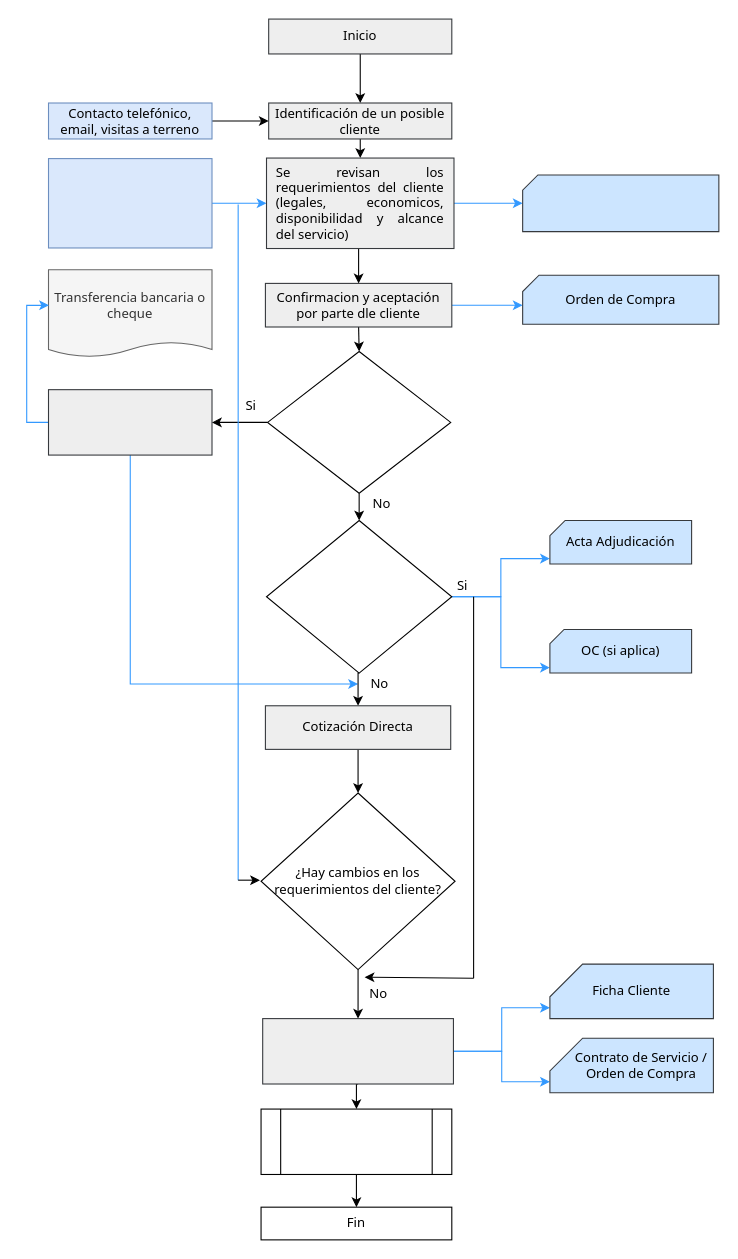
The diagram is 738 pixels wide and 1259 high, and some of its shapes have lost their labels. Each missing label, with the centre of its shape:
"Cotización de Producto o Servicio (si aplica)" belongs at pixel 620 203.
"Generación Documentación Cliente para envío de información a Dpto Logística" belongs at pixel 357 1051.
"Planificación del Servicio" belongs at pixel 356 1141.
"Requisitos legales y reglamentarios del servicio" belongs at pixel 129 203.
"Solicitud de pago del servicio adelantado" belongs at pixel 129 422.
"¿Es un cliente con servicio puntual?" belongs at pixel 359 421.
"¿Es un cliente de licitación?" belongs at pixel 358 596.
